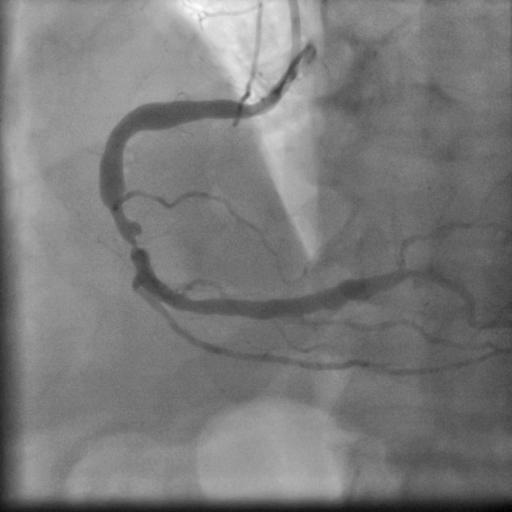Stenosis: (110, 213, 157, 254)
